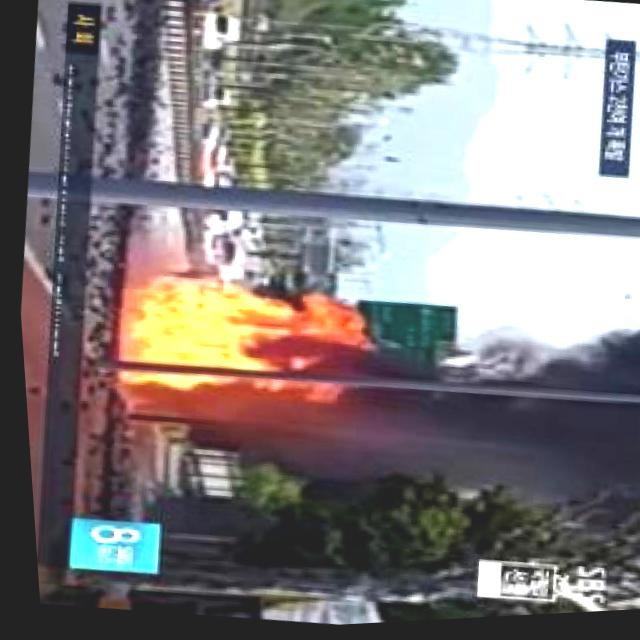helmet: (95, 263, 379, 420)
